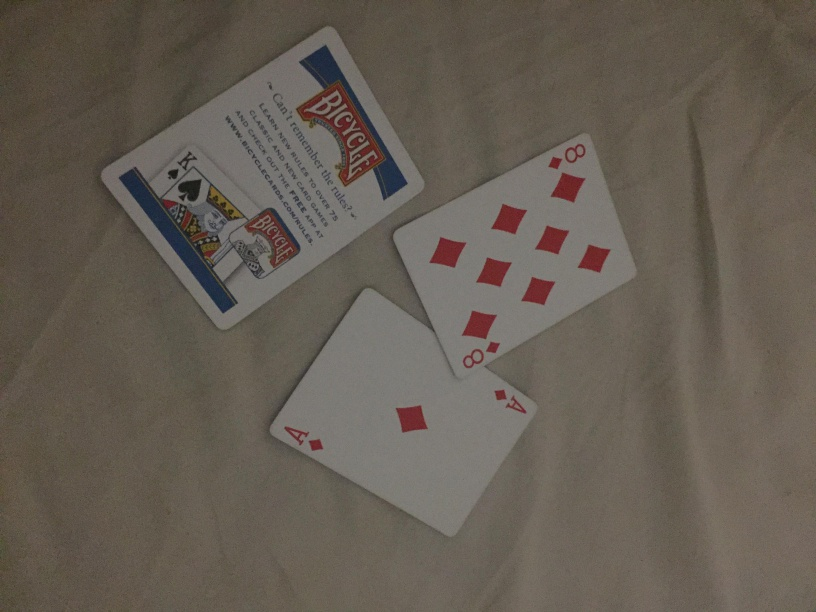8: (384, 133, 633, 380)
ace: (264, 283, 539, 548)
